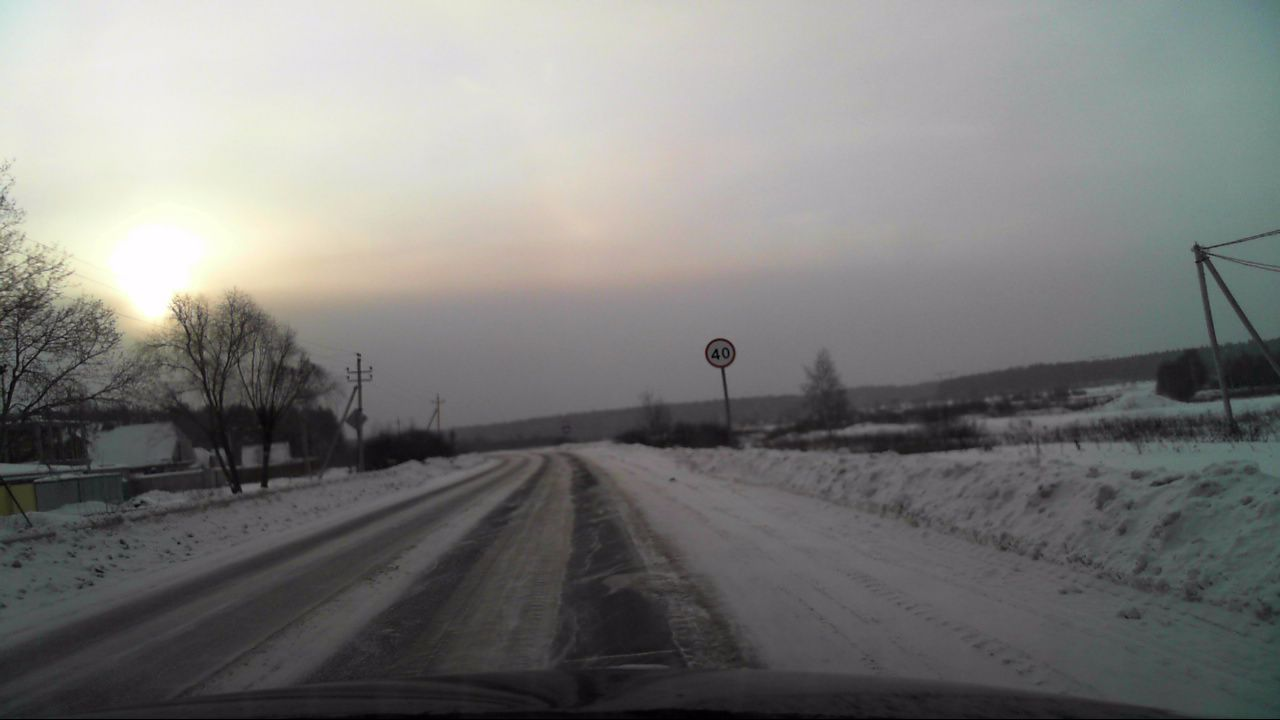speed_warning_40: (705, 338, 735, 367)
